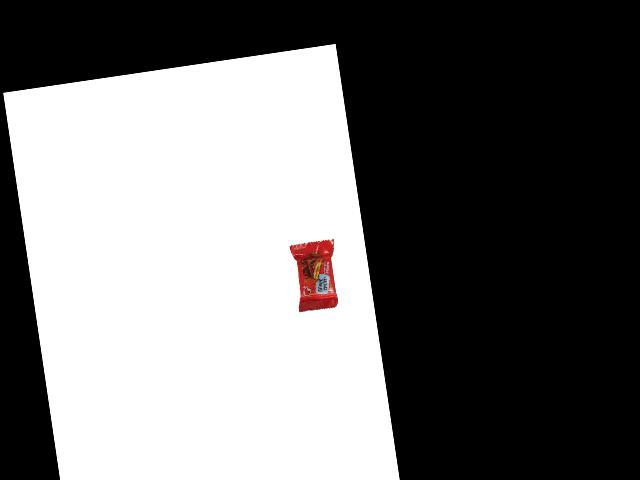chocolate: (290, 237, 348, 318)
